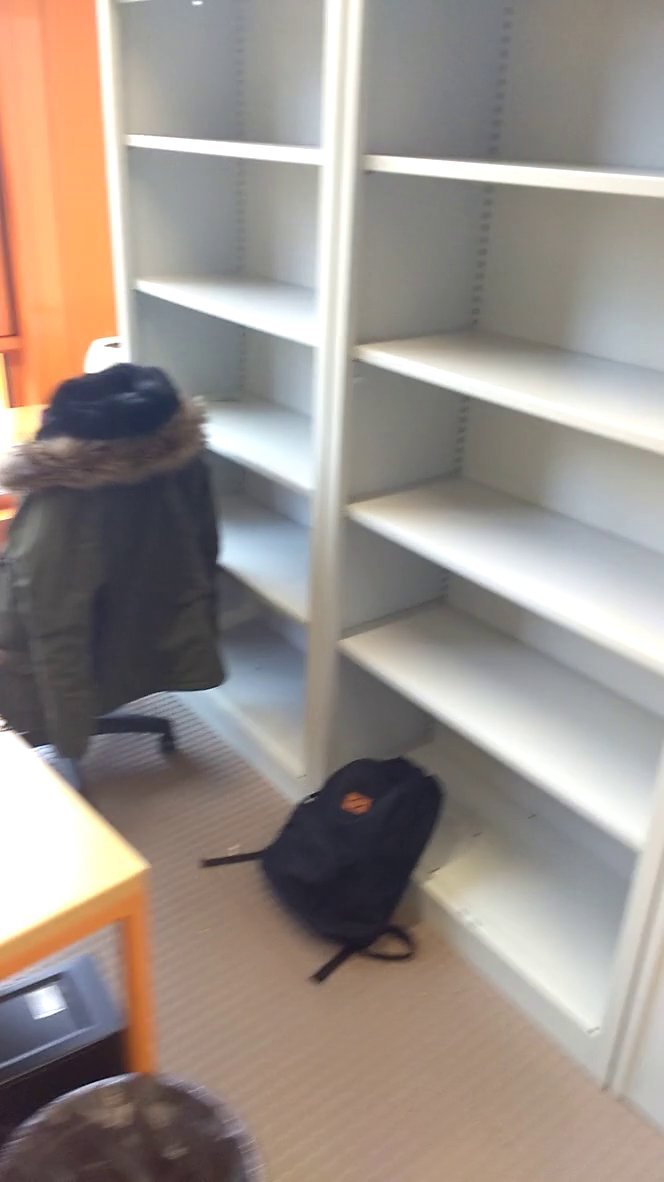bag: (242, 741, 449, 967)
